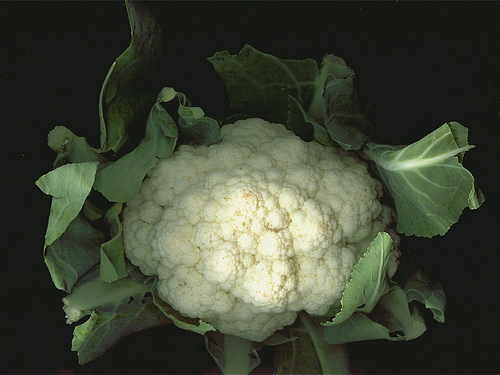cauliflower: (119, 114, 400, 340)
